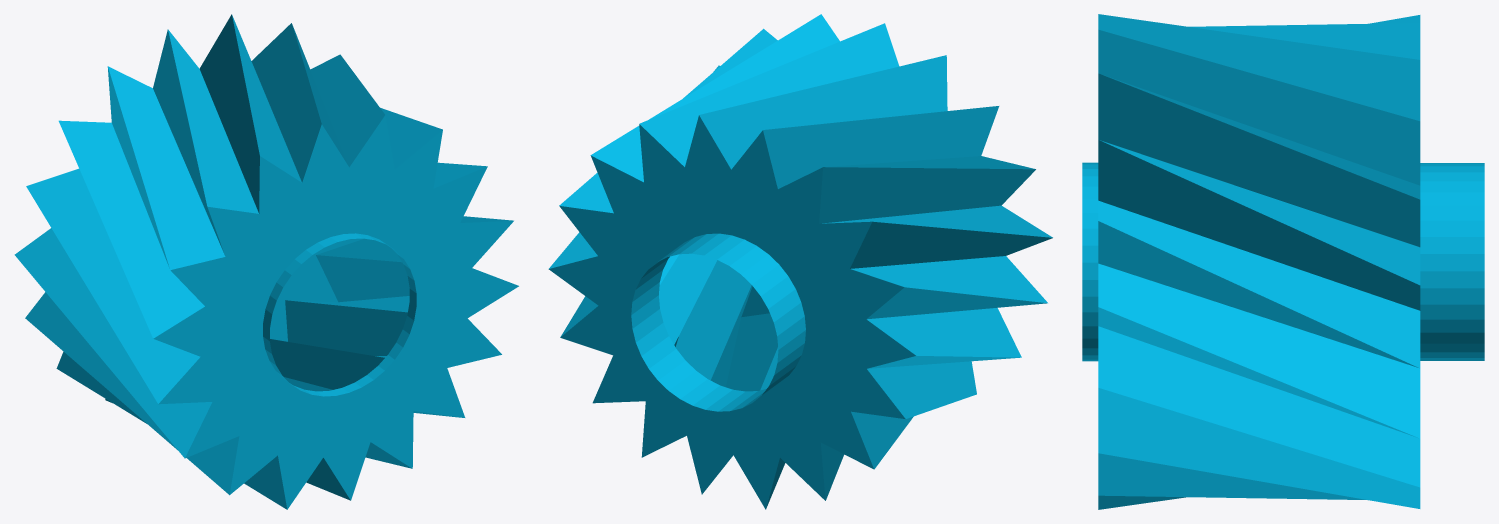
File: 672 planet gear3.fbx
The picture shows the model from 3 angles, left to right: view 1: azimuth 30°, elevation 25°; view 2: azimuth 150°, elevation 25°; view 3: azimuth 270°, elevation 25°; orthographic projection. The views are drawn at different scales.
Visible parts, largest first — view 1: planet 3; view 2: planet 3; view 3: planet 3.
Boxes of the visible parts, left/top/right/bottom form: planet 3: left=14, top=14, right=518, bottom=509; planet 3: left=548, top=14, right=1052, bottom=509; planet 3: left=1082, top=14, right=1484, bottom=509.
Bounding box in the file's own units: 308 × 307 × 250.
